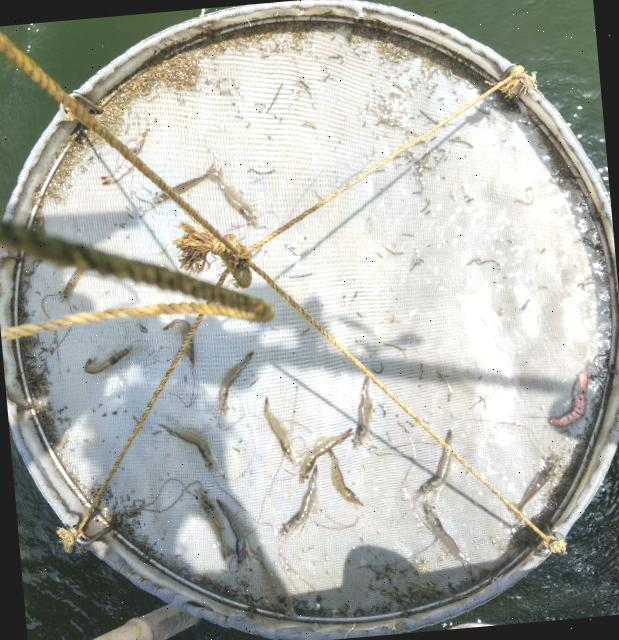shrimp: (422, 501, 471, 576), (298, 428, 352, 486), (515, 454, 563, 519), (206, 165, 257, 226), (97, 131, 148, 184), (150, 166, 218, 205), (158, 424, 214, 471), (280, 465, 317, 534), (197, 490, 234, 558), (417, 430, 453, 496), (218, 352, 254, 414), (549, 371, 588, 426), (251, 545, 287, 604), (263, 398, 294, 462), (327, 449, 361, 506), (162, 319, 194, 369), (352, 377, 372, 449), (84, 345, 132, 374), (59, 268, 84, 299)
